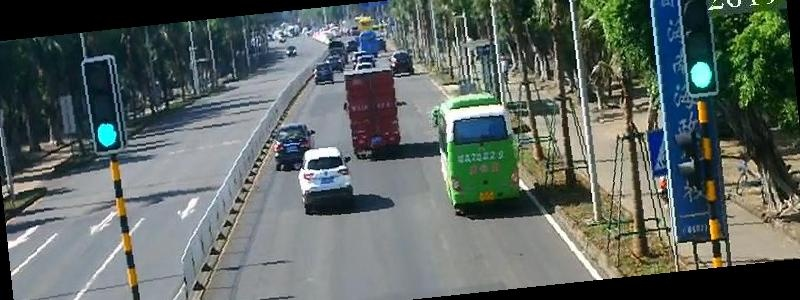green: (686, 60, 715, 89), (96, 120, 121, 149)
